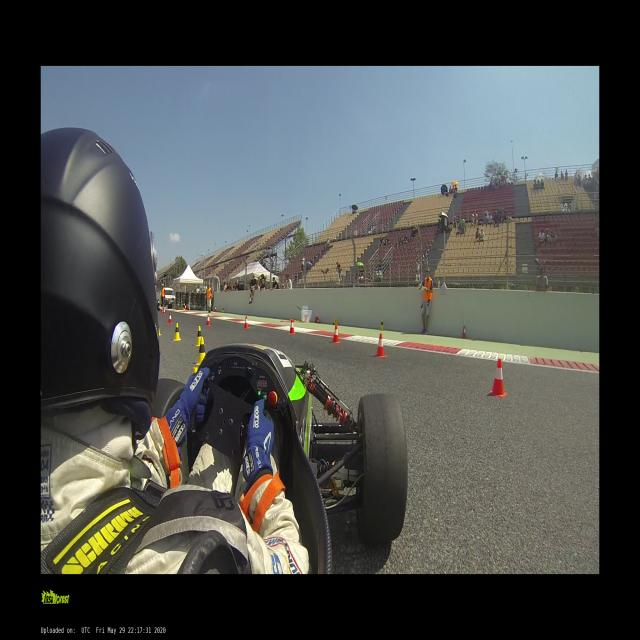orange_cone: (489, 360, 507, 397), (374, 332, 387, 358), (331, 323, 340, 343), (288, 319, 295, 334), (243, 316, 249, 328), (206, 314, 211, 326), (461, 326, 466, 338), (168, 313, 172, 324), (314, 316, 320, 323), (214, 305, 217, 313), (184, 304, 187, 311), (163, 308, 165, 314), (161, 307, 162, 313)
yellow_cone: (196, 338, 206, 363), (172, 322, 181, 341), (195, 326, 201, 346), (379, 319, 384, 329), (192, 367, 198, 375), (331, 319, 338, 325), (158, 327, 161, 337), (222, 307, 224, 312)
